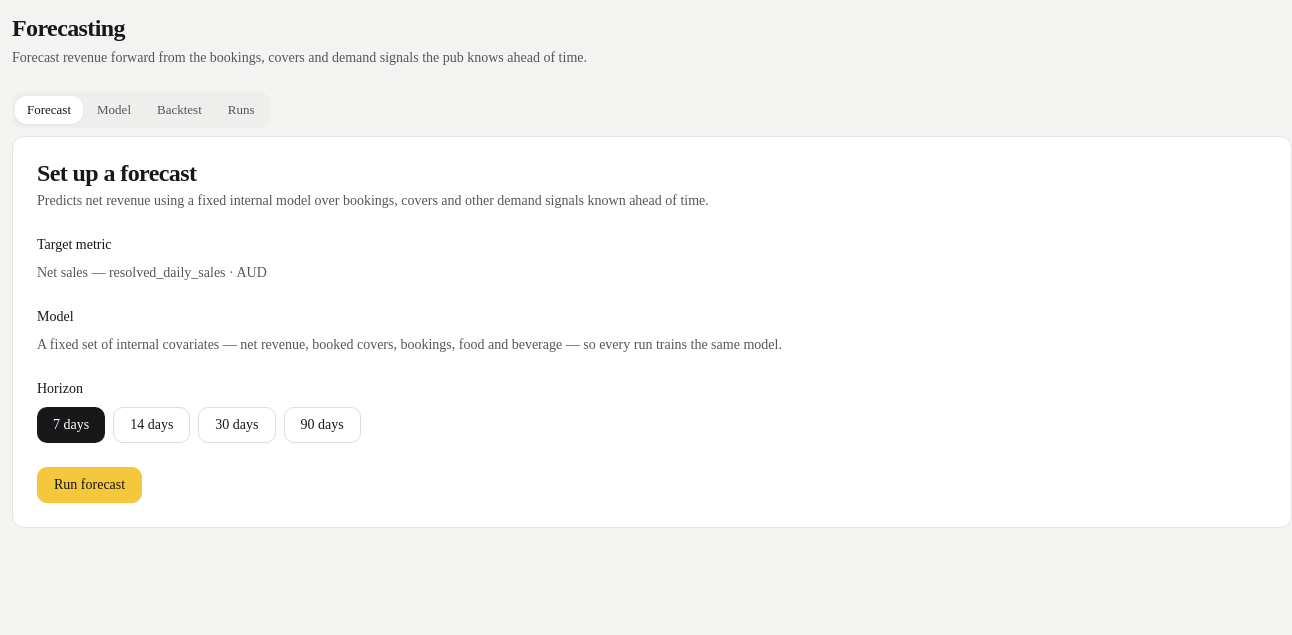
Test: ForecastingPage › renders the error message when a run fails
Expected: the text "Net sales — resolved_daily_sales · AUD" is shown, 37,265 -> 267,280
Click the button "Run forecast": (90, 485) 37,467 -> 142,503
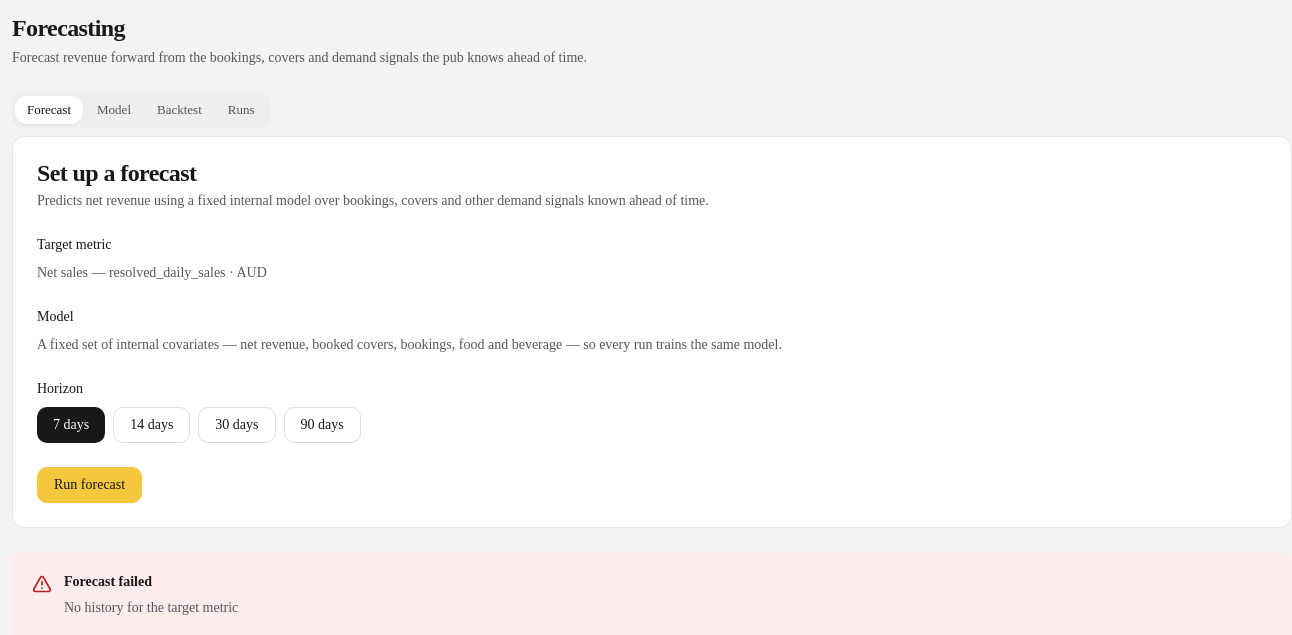
Now the text "No history for the target metric" is shown, box 64,598 -> 238,618
